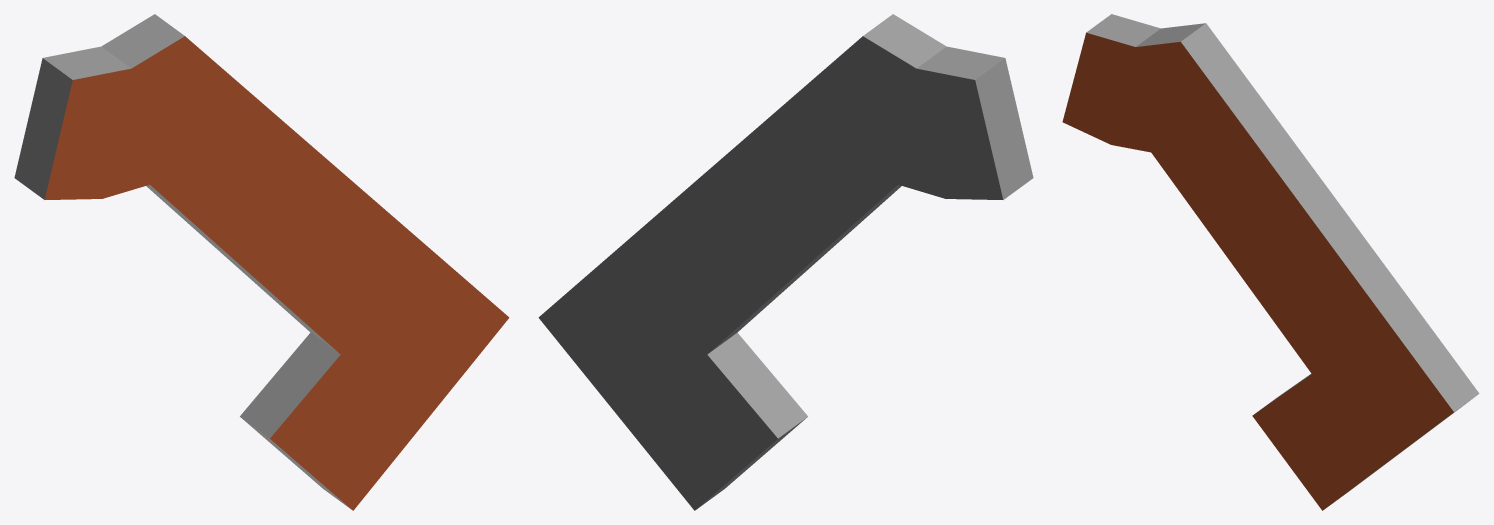
The model's file is construction_2534_assumed_A_Casa_h6m.obj.
The picture shows the model from 3 angles, left to right: view 1: azimuth 30°, elevation 25°; view 2: azimuth 150°, elevation 25°; view 3: azimuth 330°, elevation 25°; orthographic projection. The views are drawn at different scales.
Parts seen in each view (by area): view 1: construction_2534_assumed_A_Casa; view 2: construction_2534_assumed_A_Casa; view 3: construction_2534_assumed_A_Casa.
Boxes of the visible parts, x1,y1,x2,y2 form: construction_2534_assumed_A_Casa: (14,14,509,510); construction_2534_assumed_A_Casa: (538,14,1033,510); construction_2534_assumed_A_Casa: (1062,14,1479,510).
Bounding box in the file's own units: 53.31 × 56.53 × 6.
